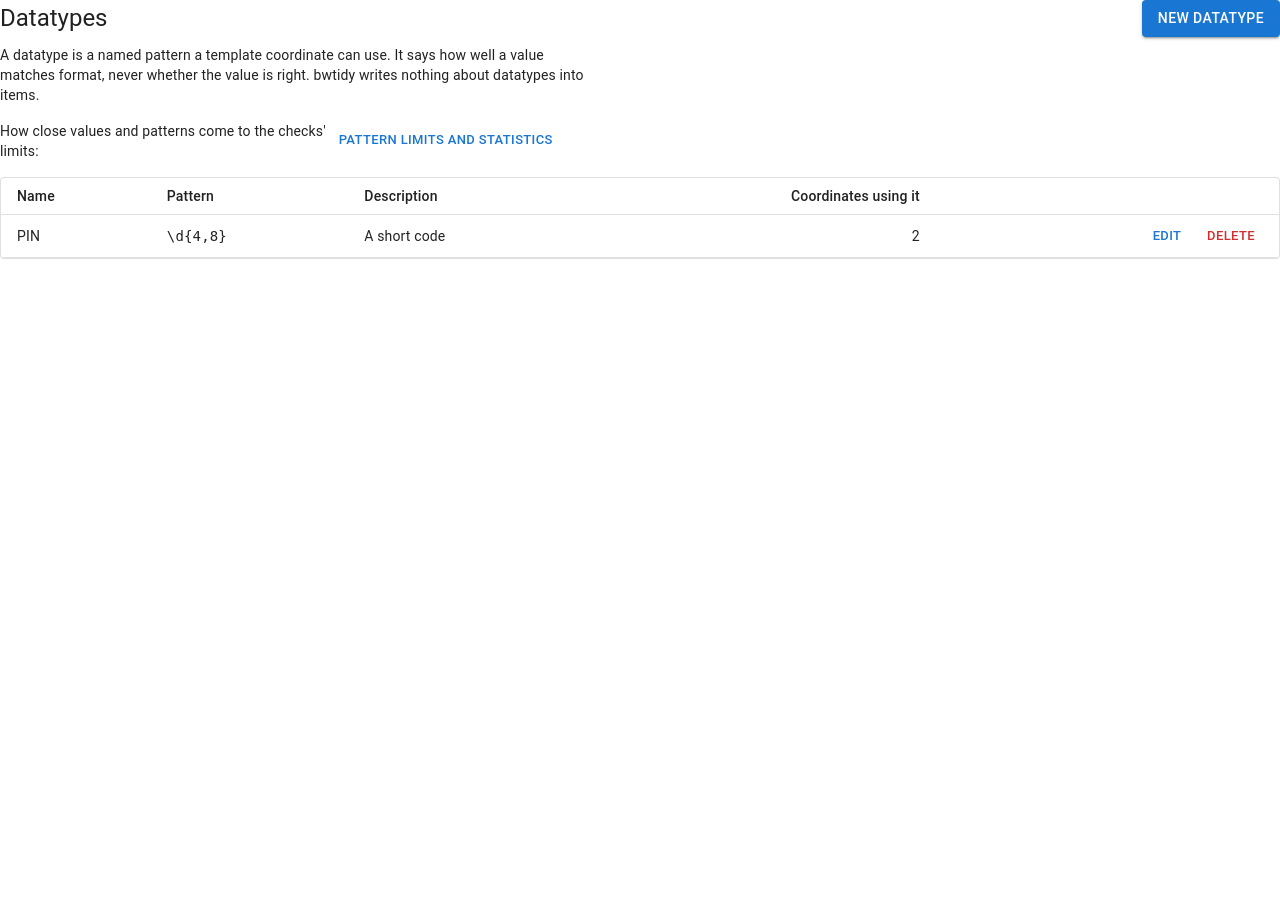
Test: the editor warns that MCP can read the pattern and the examples
Click the button "New datatype" at (1211, 18), box 1142,0 -> 1279,36
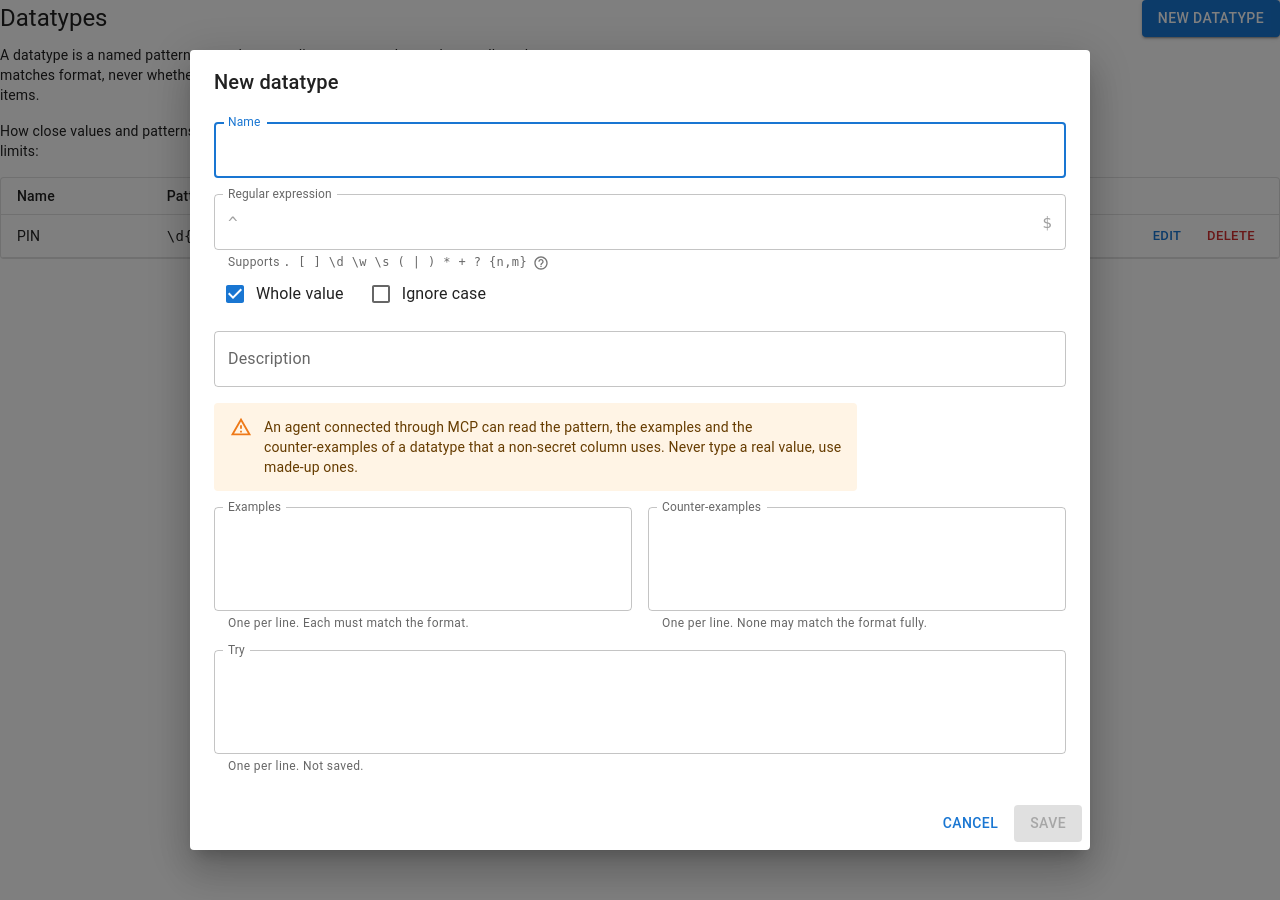
Check: the text "MCP can read the pattern, the examples and the counter-examples of a datatype that a non-secret column" is shown, box 264,417 -> 841,477
